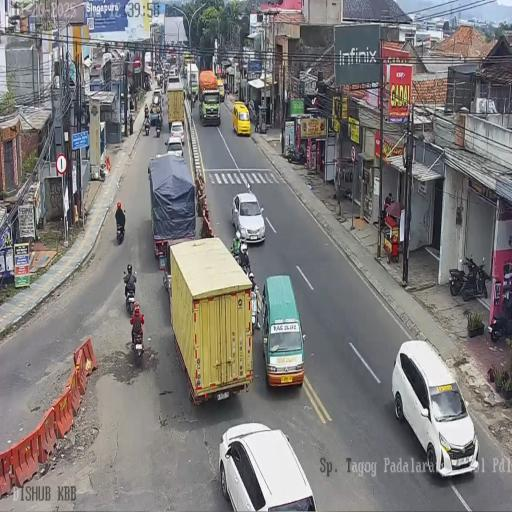3: (168, 237, 256, 406), (148, 153, 197, 267), (198, 70, 221, 127), (151, 88, 162, 112), (183, 52, 193, 75), (164, 62, 170, 75)
car: (391, 342, 478, 477), (219, 422, 317, 510), (262, 276, 306, 390), (231, 192, 265, 246), (232, 102, 251, 136), (170, 120, 184, 145), (216, 78, 225, 102), (170, 65, 176, 76)
truck: (461, 255, 489, 302), (488, 310, 510, 342), (124, 279, 137, 317), (131, 324, 144, 358), (285, 143, 305, 164), (116, 217, 125, 244), (156, 117, 162, 137), (144, 116, 150, 136), (144, 75, 151, 91), (191, 93, 196, 108), (164, 79, 168, 93)
